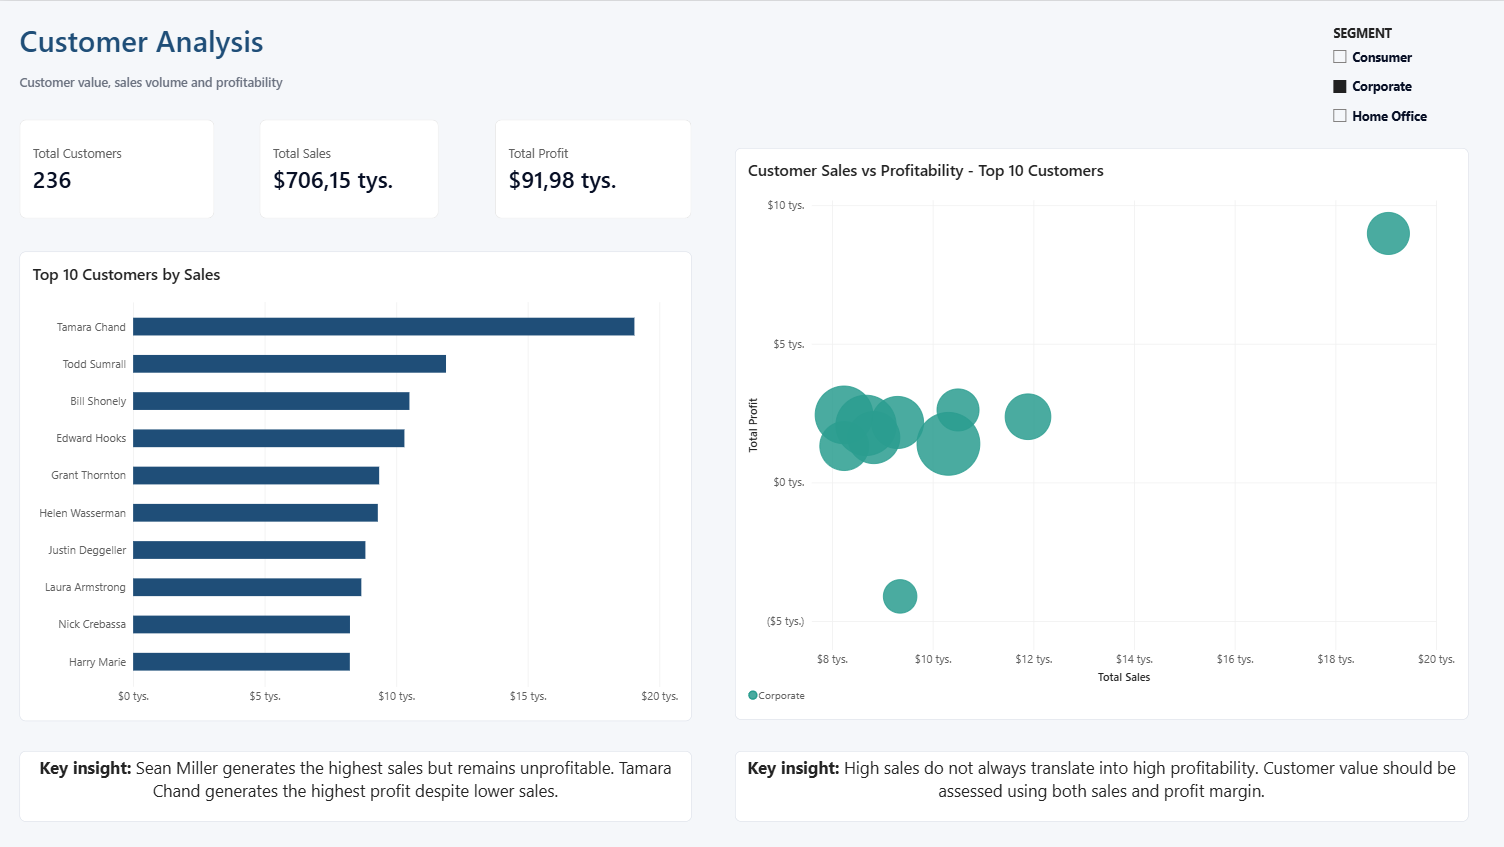

What the dashboard file says about the page in this screenshot:
{"tool":"powerbi","page":{"name":"Customer Analysis","canvas":[1920,1080],"ordinal":3},"visuals":[{"type":"cardVisual","fields":{"Data":["_Measures.Total customers"]},"box":[24,150,248,126],"z":0},{"type":"cardVisual","fields":{"Data":["_Measures.Total Sales"]},"box":[330,150,228,126],"z":1000},{"type":"cardVisual","fields":{"Data":["_Measures.Total Profit"]},"box":[630,150,250,126],"z":2000},{"type":"slicer","fields":{"Values":["orders.segment"]},"box":[1682,24,220,164],"z":3000},{"type":"clusteredBarChart","title":"Top 10 Customers by Sales","fields":{"Category":["orders.customer_name"],"Y":["_Measures.Total Sales"]},"box":[24,318,856,598],"z":4000},{"type":"scatterChart","title":"Customer Sales vs Profitability - Top 10 Customers","fields":{"Category":["orders.customer_name"],"Series":["orders.segment"],"Size":["_Measures.Total Orders"],"X":["_Measures.Total Sales"],"Y":["_Measures.Total Profit"]},"box":[936,188,934,728],"z":5000},{"type":"textbox","box":[24,24,366,110],"z":6000},{"type":"textbox","box":[24,954,856,90],"z":7000},{"type":"textbox","box":[390,0,936,150],"z":8000},{"type":"textbox","box":[936,954,934,90],"z":9000}]}

Visuals, with their boxes in screenshot pixels (x1, y1, x2, y2), scaled from the page's 1920x1080 canvas onto the 1504x847 screenshot:
cardVisual - _Measures.Total customers: 19, 118, 213, 216
cardVisual - _Measures.Total Sales: 258, 118, 437, 216
cardVisual - _Measures.Total Profit: 494, 118, 689, 216
slicer - orders.segment: 1318, 19, 1490, 147
"Top 10 Customers by Sales" clusteredBarChart: 19, 249, 689, 718
"Customer Sales vs Profitability - Top 10 Customers" scatterChart: 733, 147, 1465, 718
textbox: 19, 19, 306, 105
textbox: 19, 748, 689, 819
textbox: 306, 0, 1039, 118
textbox: 733, 748, 1465, 819
